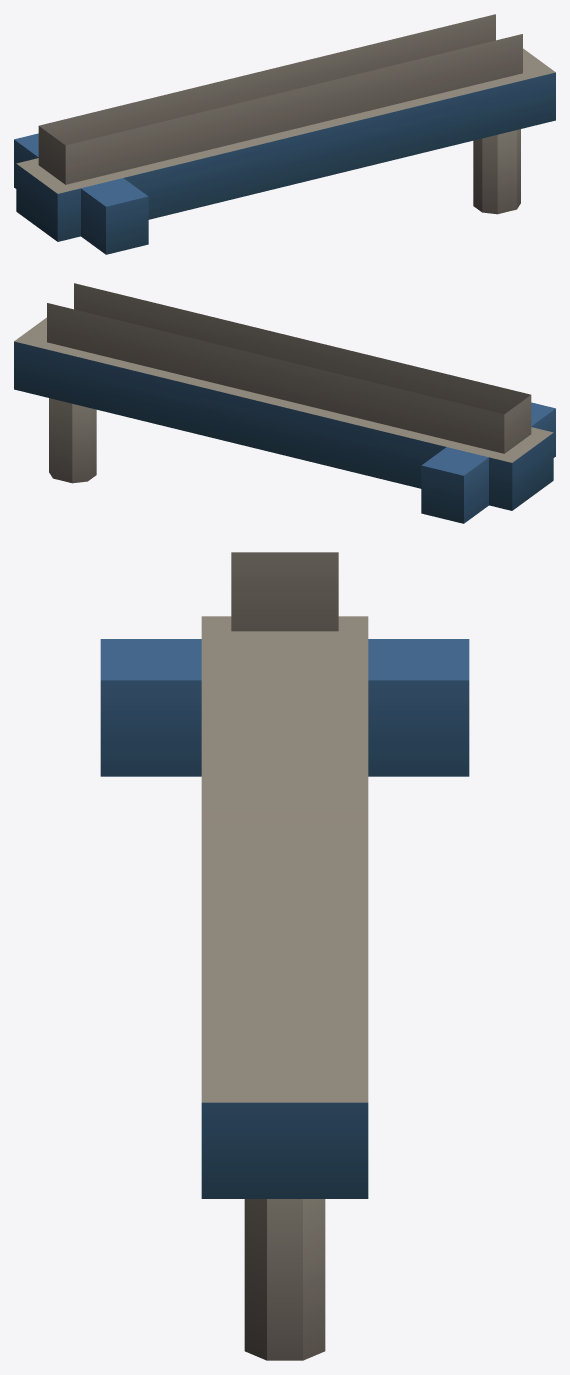
Rendered from SM_WaterTreatment_Part_04b.fbx.
3 renders of one model, top to bottom at view 1: azimuth 30°, elevation 25°; view 2: azimuth 150°, elevation 25°; view 3: azimuth 270°, elevation 25°, orthographic. The views are drawn at different scales.
Visible parts, largest first — view 1: SM_WaterTreatment_Part_04b; view 2: SM_WaterTreatment_Part_04b; view 3: SM_WaterTreatment_Part_04b.
Boxes of the visible parts, <box> form: SM_WaterTreatment_Part_04b: <box>14,14,555,254</box>; SM_WaterTreatment_Part_04b: <box>14,283,555,523</box>; SM_WaterTreatment_Part_04b: <box>100,552,469,1360</box>.
Size of the model in its own units: 0.5684 by 0.1936 by 0.182.
